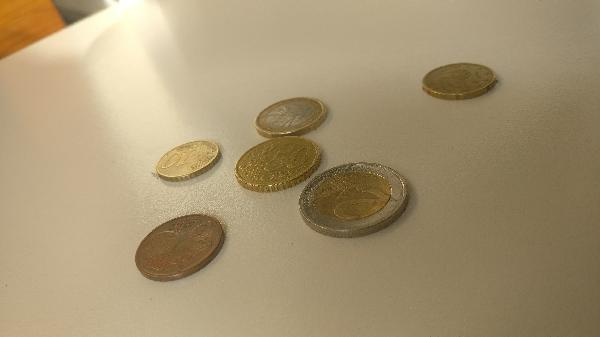Fifty Cent: (236, 137, 324, 189)
Five Cent: (133, 214, 224, 285)
One Euro: (253, 96, 327, 137)
Ten Cent: (154, 138, 220, 181)
Twenty Cent: (418, 62, 506, 105)
Two Euro: (300, 160, 411, 240)
